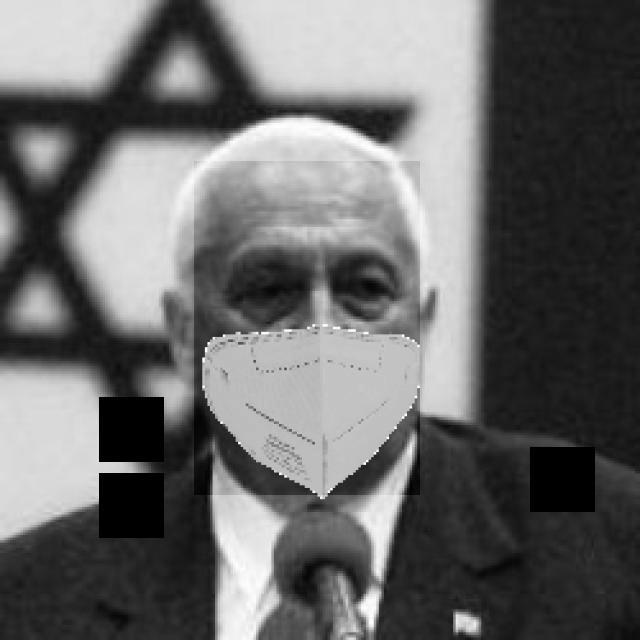kn95: (194, 162, 420, 496)
